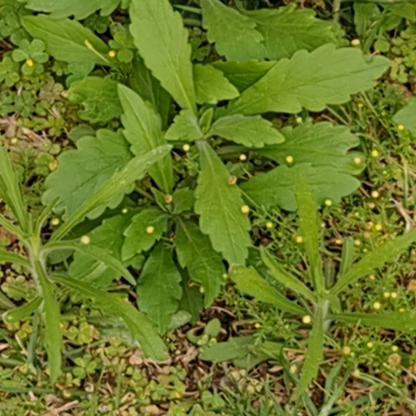Weeds: (41, 0, 396, 343), (196, 183, 415, 406), (0, 137, 179, 390)
